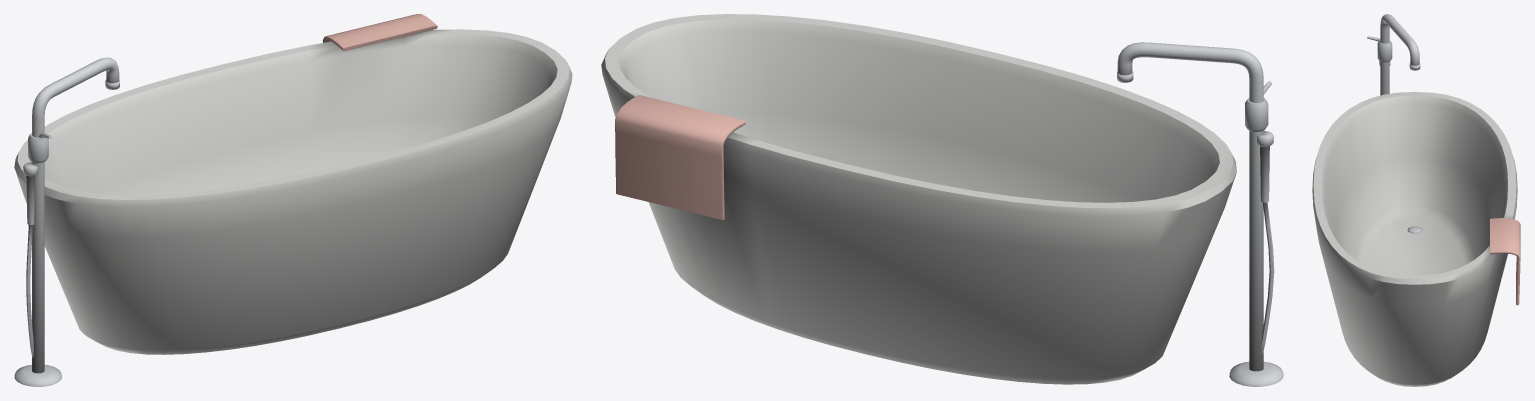
Rendered from bathtubFreestanding.glb.
3 views of the same model, side by side, from view 1: azimuth 30°, elevation 25°; view 2: azimuth 150°, elevation 25°; view 3: azimuth 270°, elevation 25° (orthographic). The views are drawn at different scales.
Parts seen in each view (by area): view 1: body; view 2: body; view 3: body.
Boxes of the visible parts, x1=… form: body: x1=14, y1=14, x2=572, y2=386; body: x1=601, y1=14, x2=1283, y2=386; body: x1=1312, y1=14, x2=1520, y2=386.
Bounding box in the file's own units: 1.89 × 0.9189 × 0.8319.
